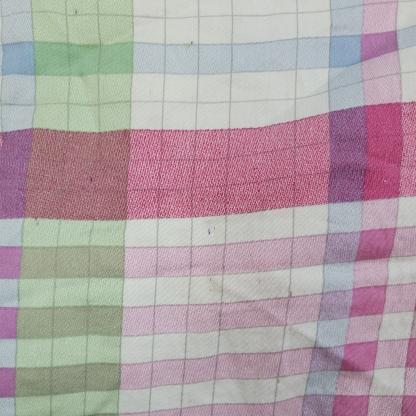spot: (31, 211, 47, 230), (203, 224, 221, 240), (187, 36, 202, 48), (84, 174, 100, 184), (254, 276, 263, 286), (288, 288, 296, 299), (207, 286, 218, 294), (206, 276, 215, 283), (74, 9, 82, 16), (277, 379, 283, 385)
